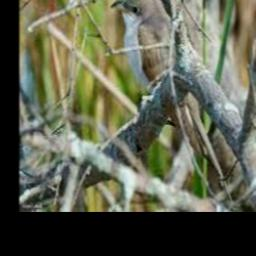Cuckoo: (110, 0, 217, 165)
